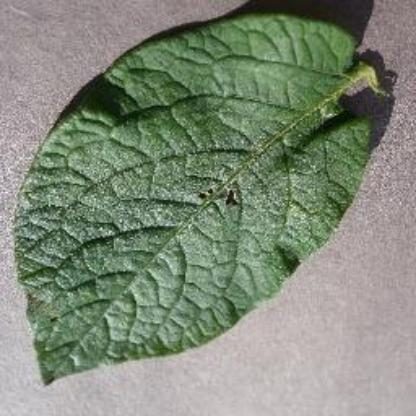Healthy-plant: (17, 13, 377, 385)
